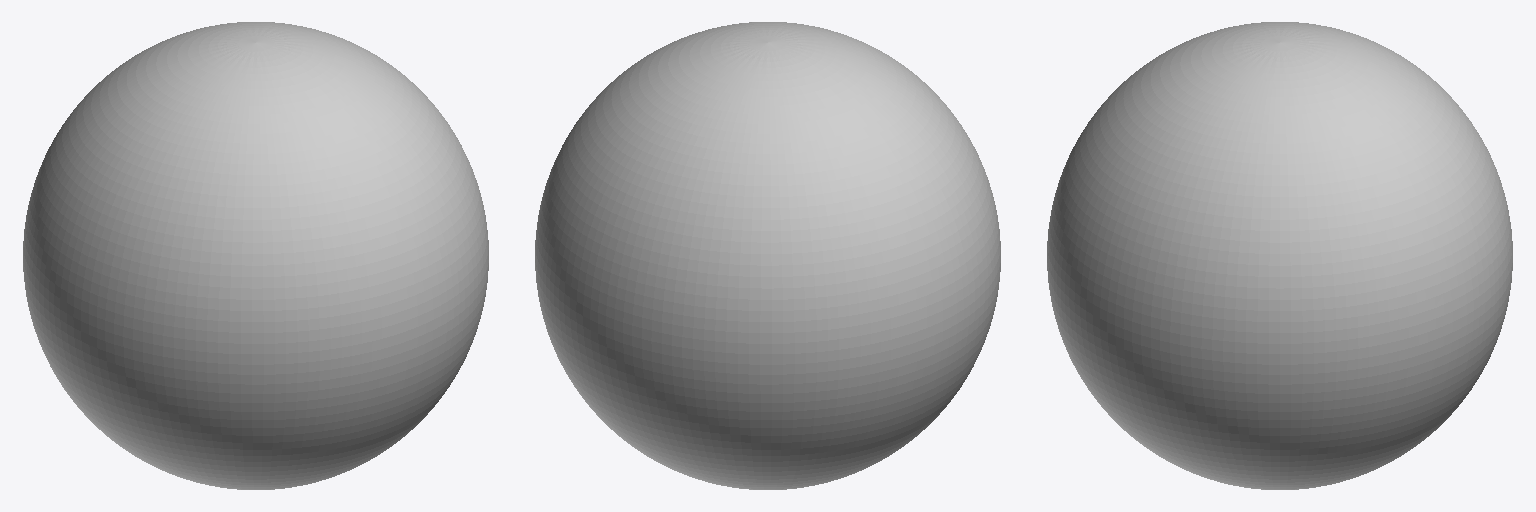
File: blackHole.obj
3 views of the same model, side by side, from view 1: azimuth 30°, elevation 25°; view 2: azimuth 150°, elevation 25°; view 3: azimuth 270°, elevation 25° (orthographic).
Parts seen in each view (by area): view 1: 球体; view 2: 球体; view 3: 球体.
Part boxes in pixels (bbox=[...]): 球体: bbox=[23, 22, 488, 489]; 球体: bbox=[535, 22, 1000, 489]; 球体: bbox=[1047, 22, 1512, 489].
Bounding box in the file's own units: 1.97 × 2 × 1.97.